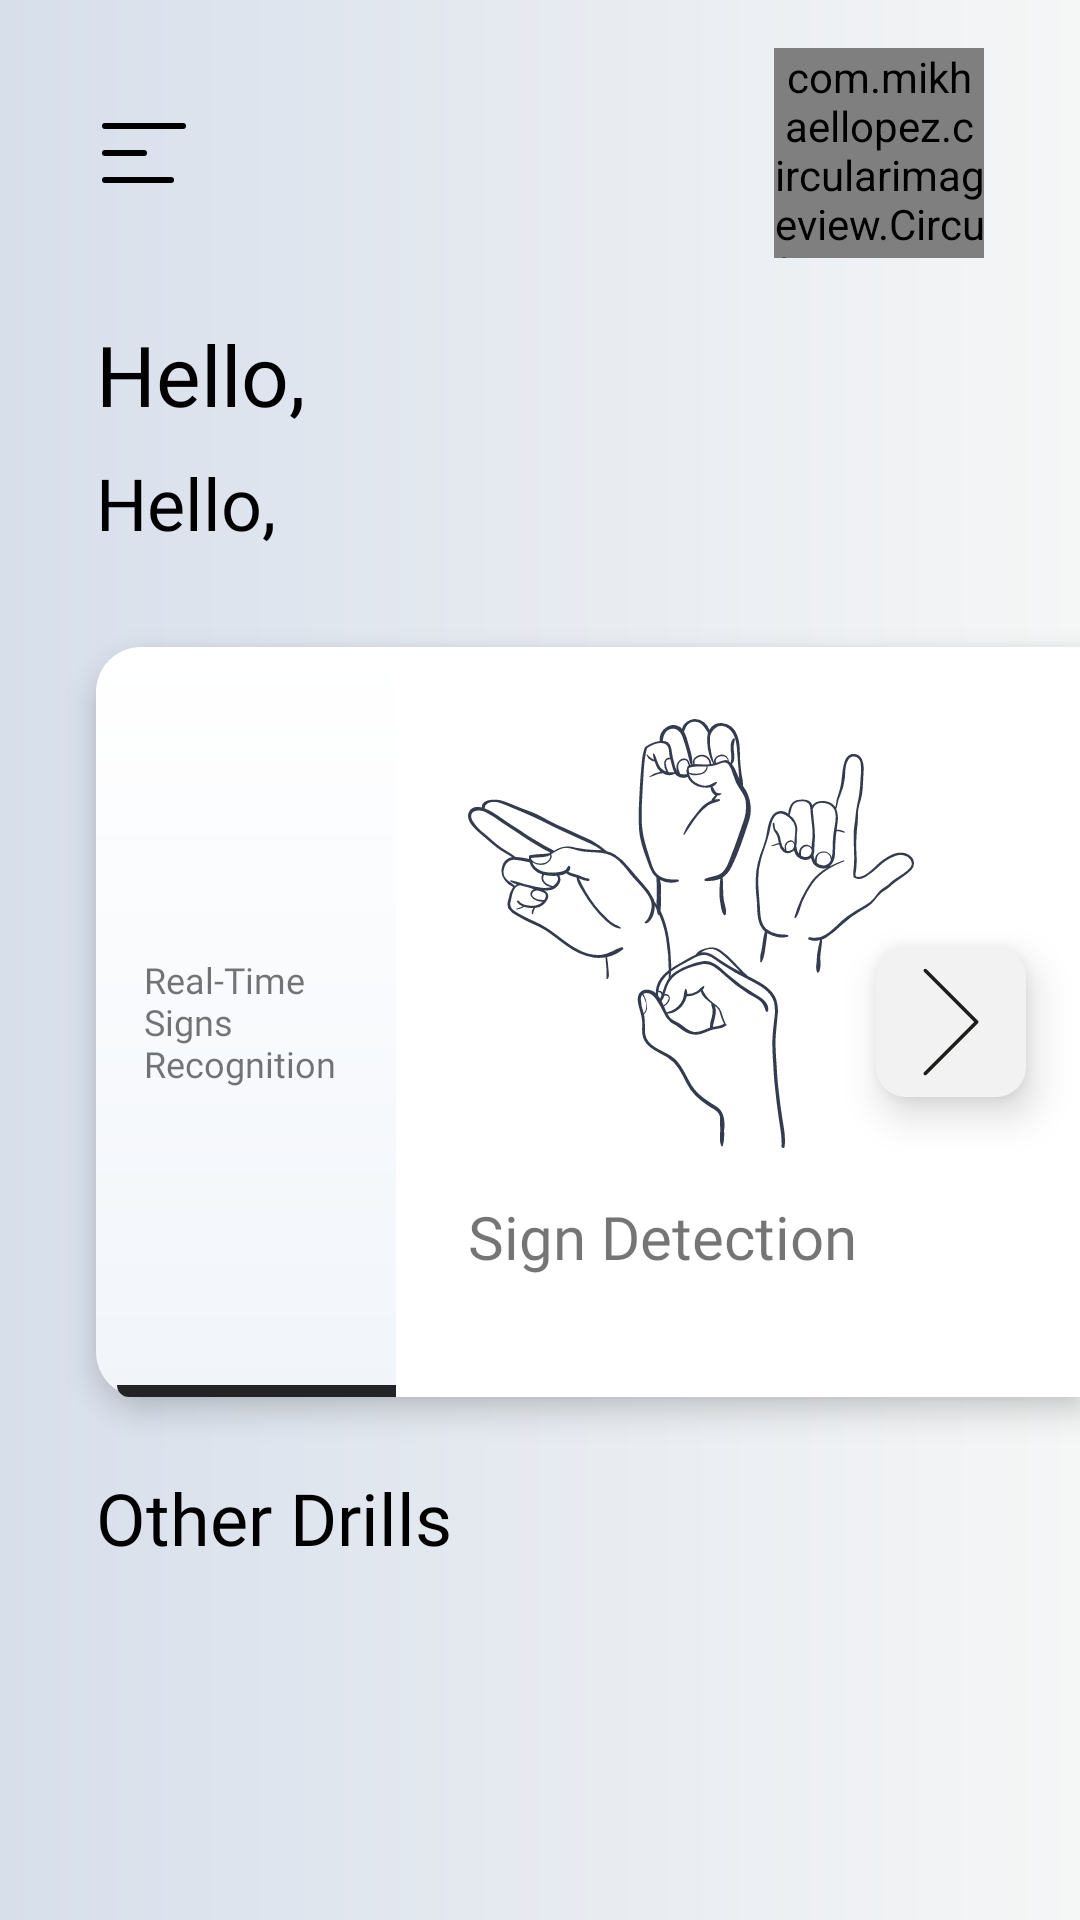

Screen size 1080 × 1920. Icon name, then its center in pixels as (x,y):
arrow: (969,1032)
menu: (144,153)
